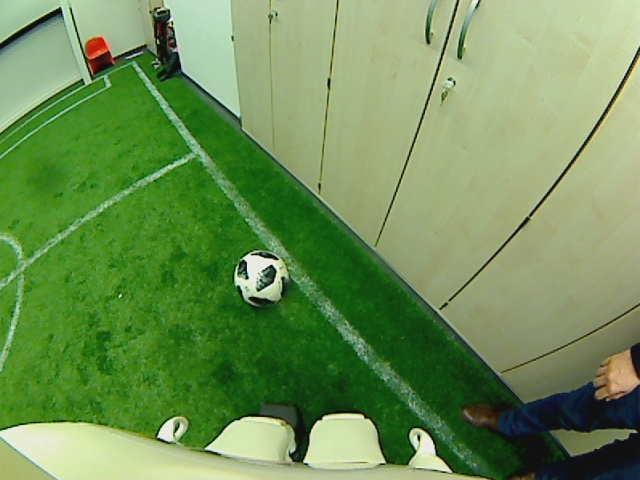ball: (232, 247, 288, 306)
